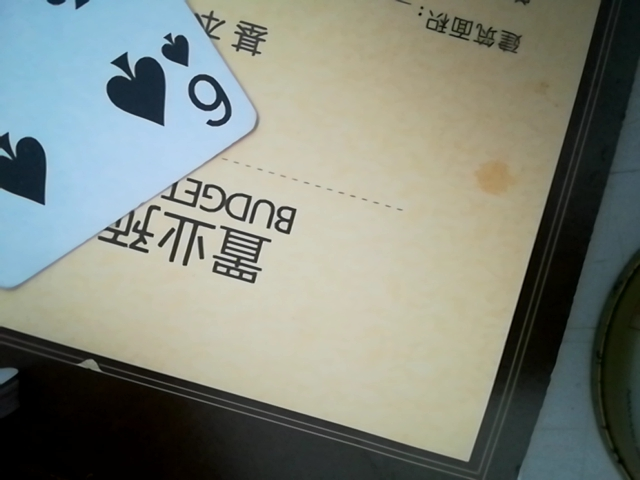ht 6: (1, 0, 262, 312)
